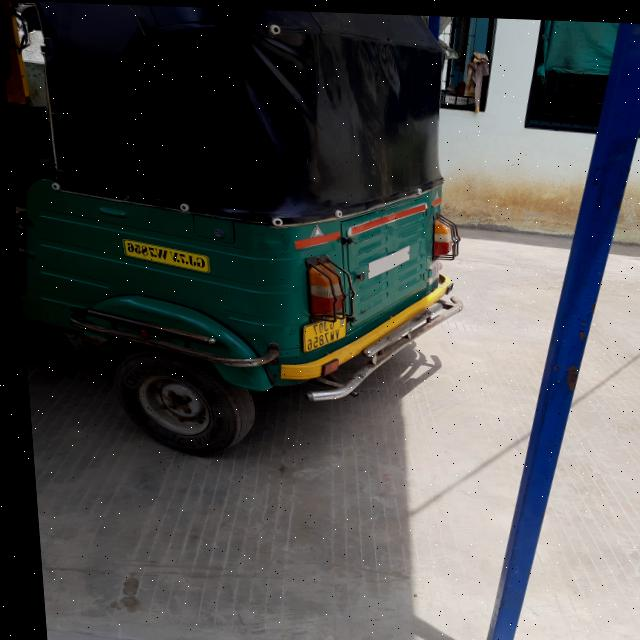plate: (117, 237, 208, 273), (294, 309, 346, 354)
